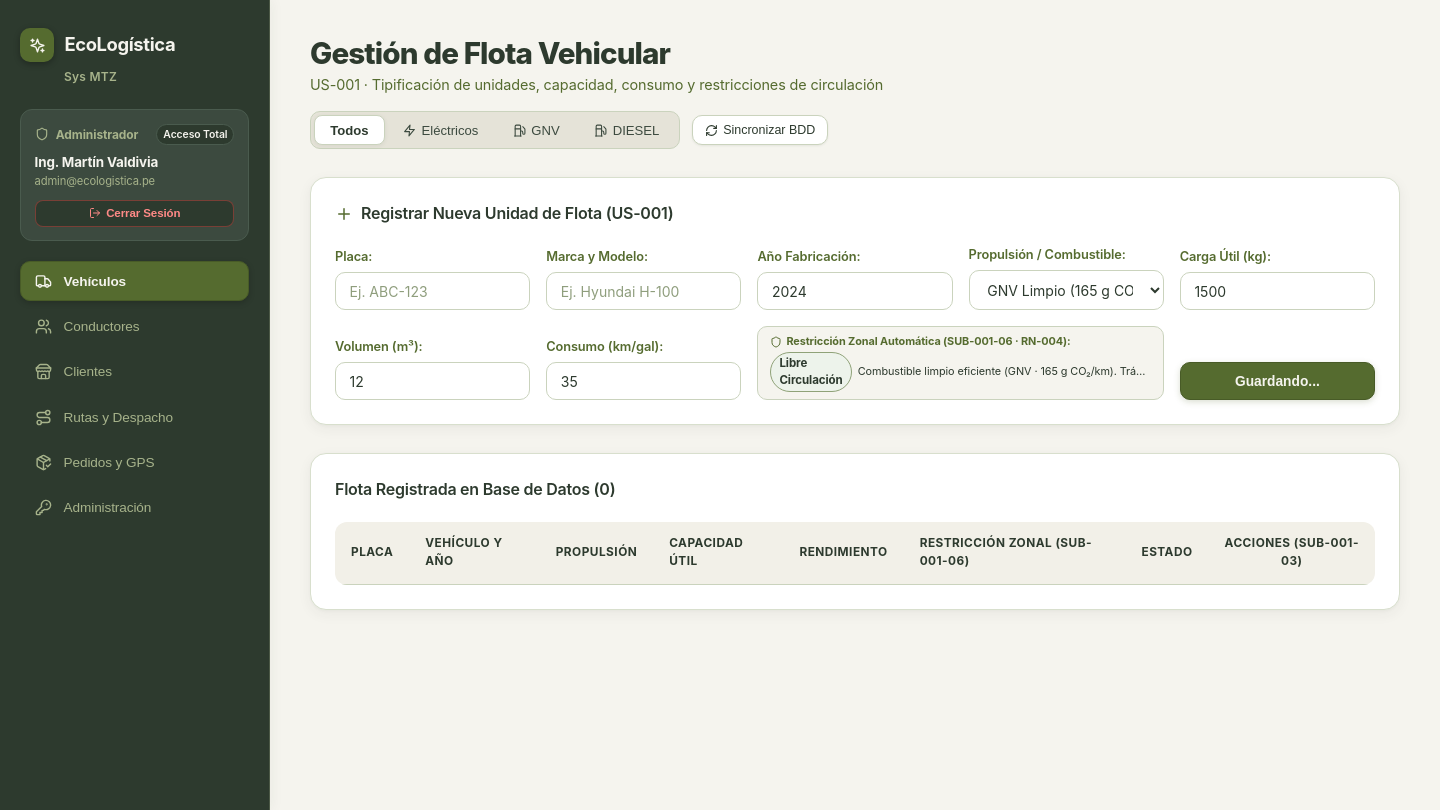
Test case: Componente Principal de Enrutamiento: App › permite cerrar sesión y redirige a la vista de Login
The width and height of the screenshot is (1440, 810).
Click the button "Cerrar Sesión" at (134, 213), box 35,200 -> 234,226
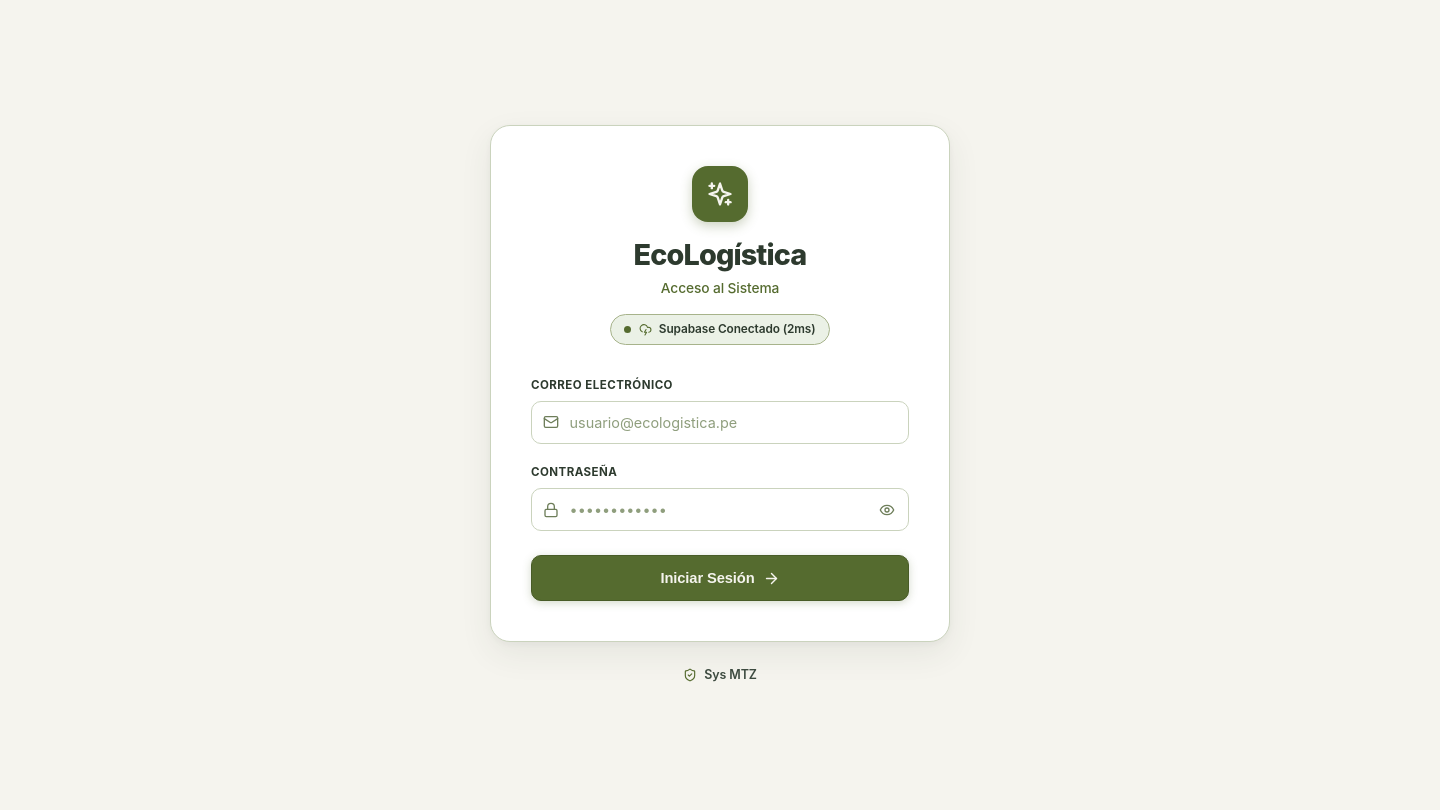
Now the text "Acceso al Sistema" is shown, box 661,280 -> 779,296
